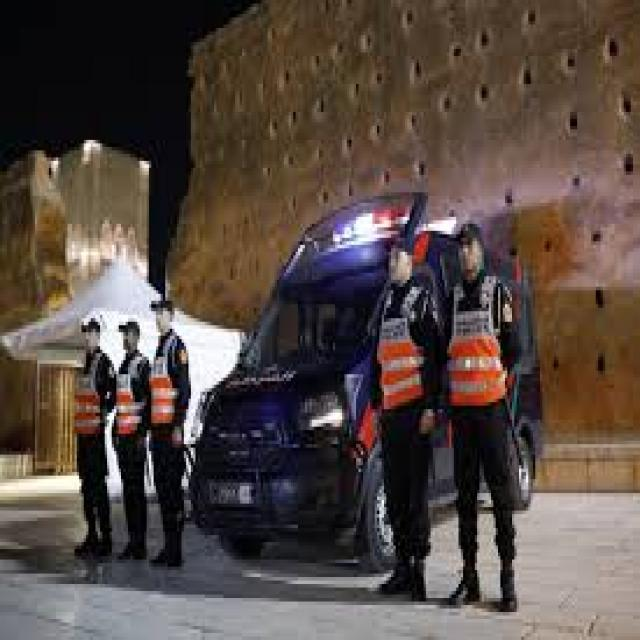police: (189, 196, 538, 566)
